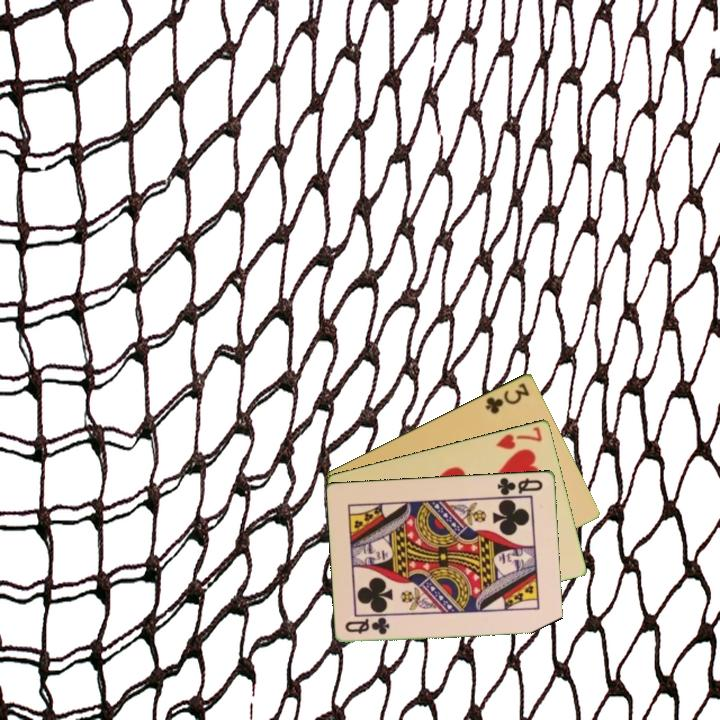3c: (482, 379, 533, 417)
7h: (492, 423, 545, 452)
Qc: (494, 474, 546, 498), (342, 615, 393, 637)
